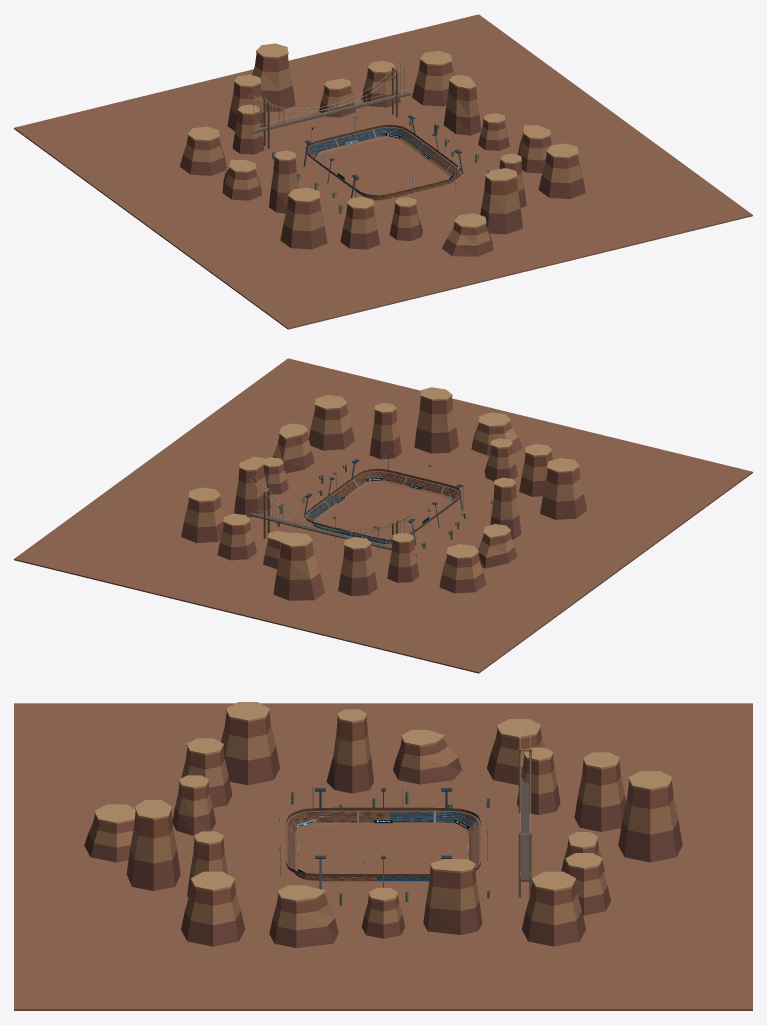
Rendered from canyon-v2.glb.
3 renders of one model, top to bottom at view 1: azimuth 30°, elevation 25°; view 2: azimuth 150°, elevation 25°; view 3: azimuth 270°, elevation 25°, orthographic. The views are drawn at different scales.
Parts seen in each view (by area): view 1: Arena architecture / canyon; view 2: Arena architecture / canyon; view 3: Arena architecture / canyon.
Boxes of the visible parts, <box> form: Arena architecture / canyon: <box>14,14,752,329</box>; Arena architecture / canyon: <box>14,358,752,673</box>; Arena architecture / canyon: <box>14,702,752,1010</box>.
Size of the model in its own units: 61300 by 7374 by 62600.
Materials: 4 (2 with a texture image).
